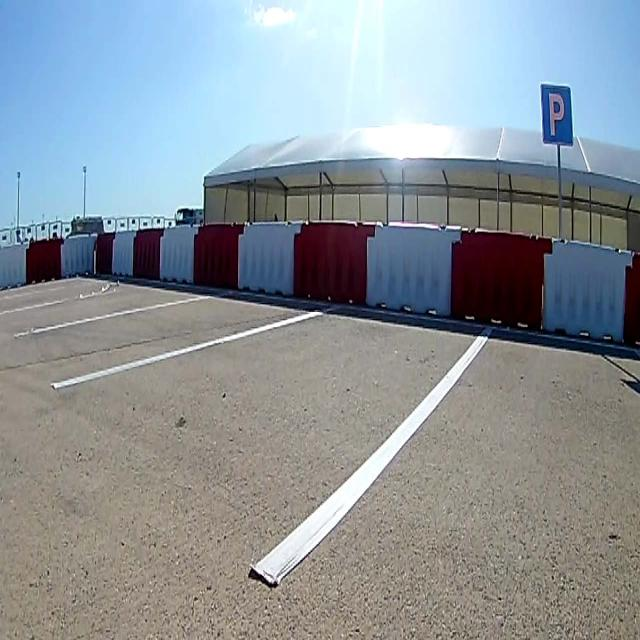park: (540, 82, 574, 146)
